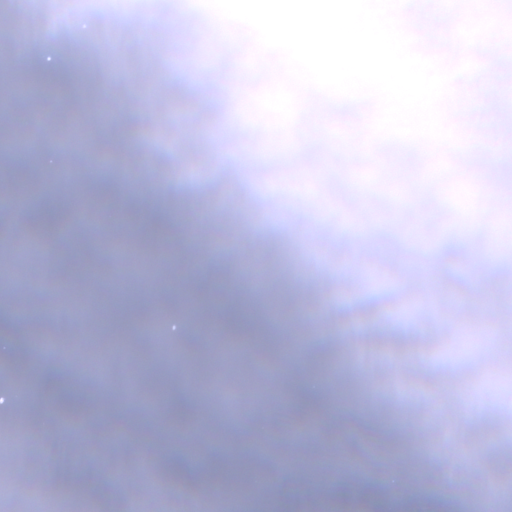Iceberg: (0, 398, 3, 403), (47, 57, 50, 60), (83, 25, 85, 27), (173, 326, 174, 329)
